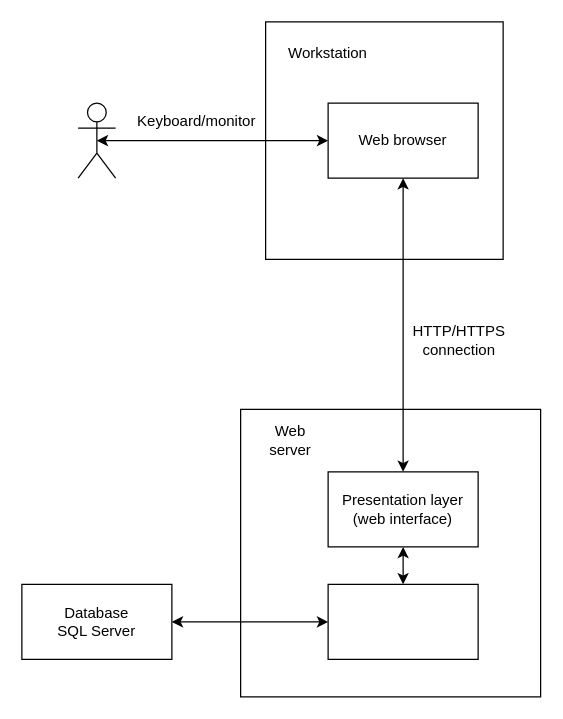
Image size: 563x719. Some labels were removed from this diagram. The shapes that lost their labels are listed below. From the top down, each one's box as (x1, y1, x2, y2) in pixels, then its label:
(77, 102, 116, 178): User
(327, 583, 478, 659): Database interface (API)
